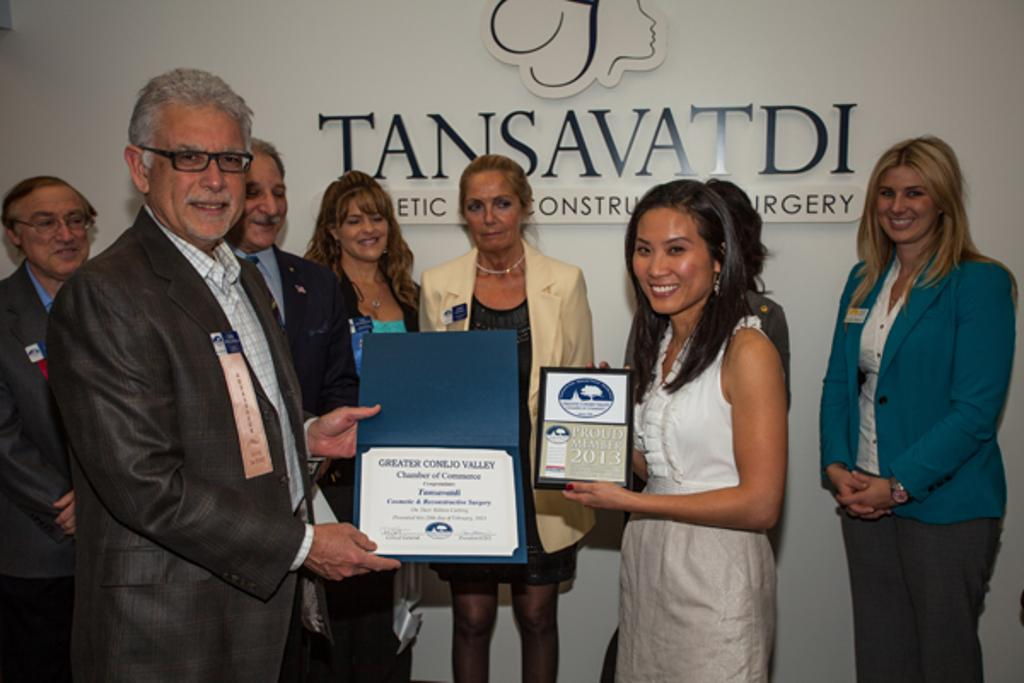face: (149, 101, 246, 239), (633, 206, 713, 313), (229, 149, 287, 247), (25, 188, 88, 275), (873, 162, 938, 242), (462, 170, 520, 251), (340, 188, 388, 261)
